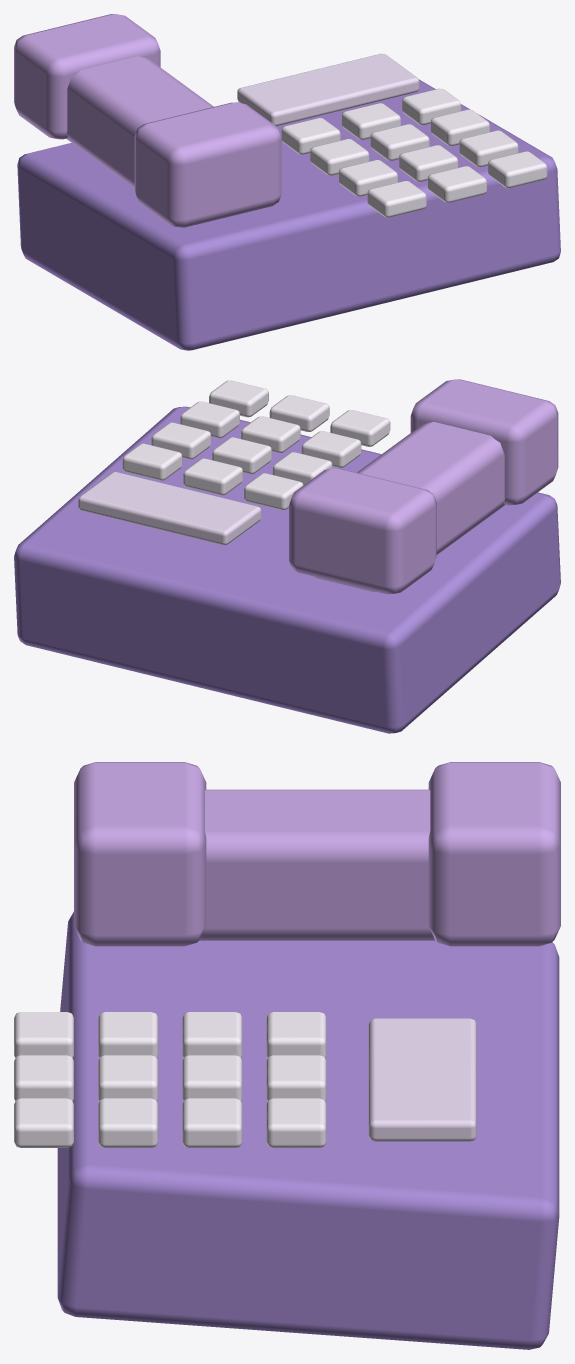
The model's file is office-phone.glb.
3 renders of one model, top to bottom at view 1: azimuth 30°, elevation 25°; view 2: azimuth 150°, elevation 25°; view 3: azimuth 270°, elevation 25°, orthographic. The views are drawn at different scales.
Visible parts, largest first — view 1: base, mouthpiece, handset, earpiece, display, key-3-1, key-3-2, key-3-0, key-1-2, key-2-0, key-2-1, key-0-1 (+5 smaller); view 2: base, earpiece, handset, mouthpiece, display, key-0-2, key-0-1, key-3-0, key-2-0, key-3-1, key-2-1, key-0-0 (+5 smaller); view 3: base, handset, mouthpiece, earpiece, display, key-0-2, key-1-2, key-2-2, key-3-2, key-2-1, key-0-1, key-1-1 (+5 smaller).
Part boxes in pixels (bbox=[...]): base: bbox=[17, 79, 560, 350]; mouthpiece: bbox=[134, 102, 281, 227]; handset: bbox=[66, 56, 213, 188]; earpiece: bbox=[14, 14, 160, 139]; display: bbox=[237, 53, 419, 126]; key-3-1: bbox=[427, 166, 486, 202]; key-3-2: bbox=[488, 151, 547, 188]; key-3-0: bbox=[367, 181, 426, 217]; key-1-2: bbox=[430, 109, 489, 146]; key-2-0: bbox=[338, 160, 397, 196]; key-2-1: bbox=[399, 145, 458, 181]; key-0-1: bbox=[341, 103, 400, 139]; base: bbox=[14, 406, 560, 733]; earpiece: bbox=[289, 468, 436, 594]; handset: bbox=[314, 422, 505, 591]; mouthpiece: bbox=[410, 379, 558, 505]; display: bbox=[78, 472, 261, 545]; key-0-2: bbox=[122, 443, 182, 480]; key-0-1: bbox=[183, 458, 242, 495]; key-3-0: bbox=[330, 410, 390, 446]; key-2-0: bbox=[301, 431, 361, 467]; key-3-1: bbox=[269, 395, 329, 431]; key-2-1: bbox=[241, 416, 300, 453]; key-0-0: bbox=[244, 473, 303, 510]; base: bbox=[57, 911, 559, 1349]; handset: bbox=[199, 789, 435, 940]; mouthpiece: bbox=[74, 762, 206, 946]; earpiece: bbox=[428, 762, 560, 946]; display: bbox=[368, 1018, 476, 1141]; key-0-2: bbox=[266, 1098, 326, 1147]; key-1-2: bbox=[182, 1098, 242, 1147]; key-2-2: bbox=[98, 1098, 158, 1147]; key-3-2: bbox=[14, 1098, 73, 1147]; key-2-1: bbox=[98, 1055, 158, 1101]; key-0-1: bbox=[266, 1055, 326, 1101]; key-1-1: bbox=[182, 1055, 242, 1100].
Bounding box in the file's own units: 1.09 × 0.5998 × 0.91.
